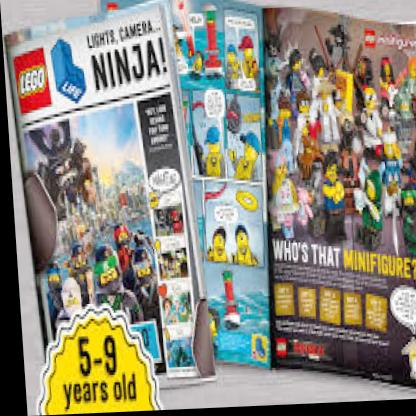Paper: (6, 0, 416, 413)
